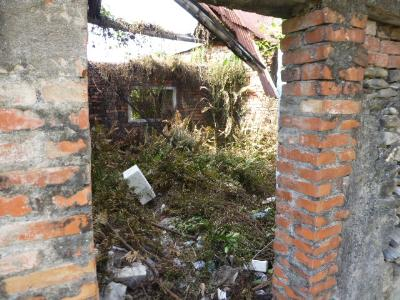styrofoam: (121, 164, 156, 205)
